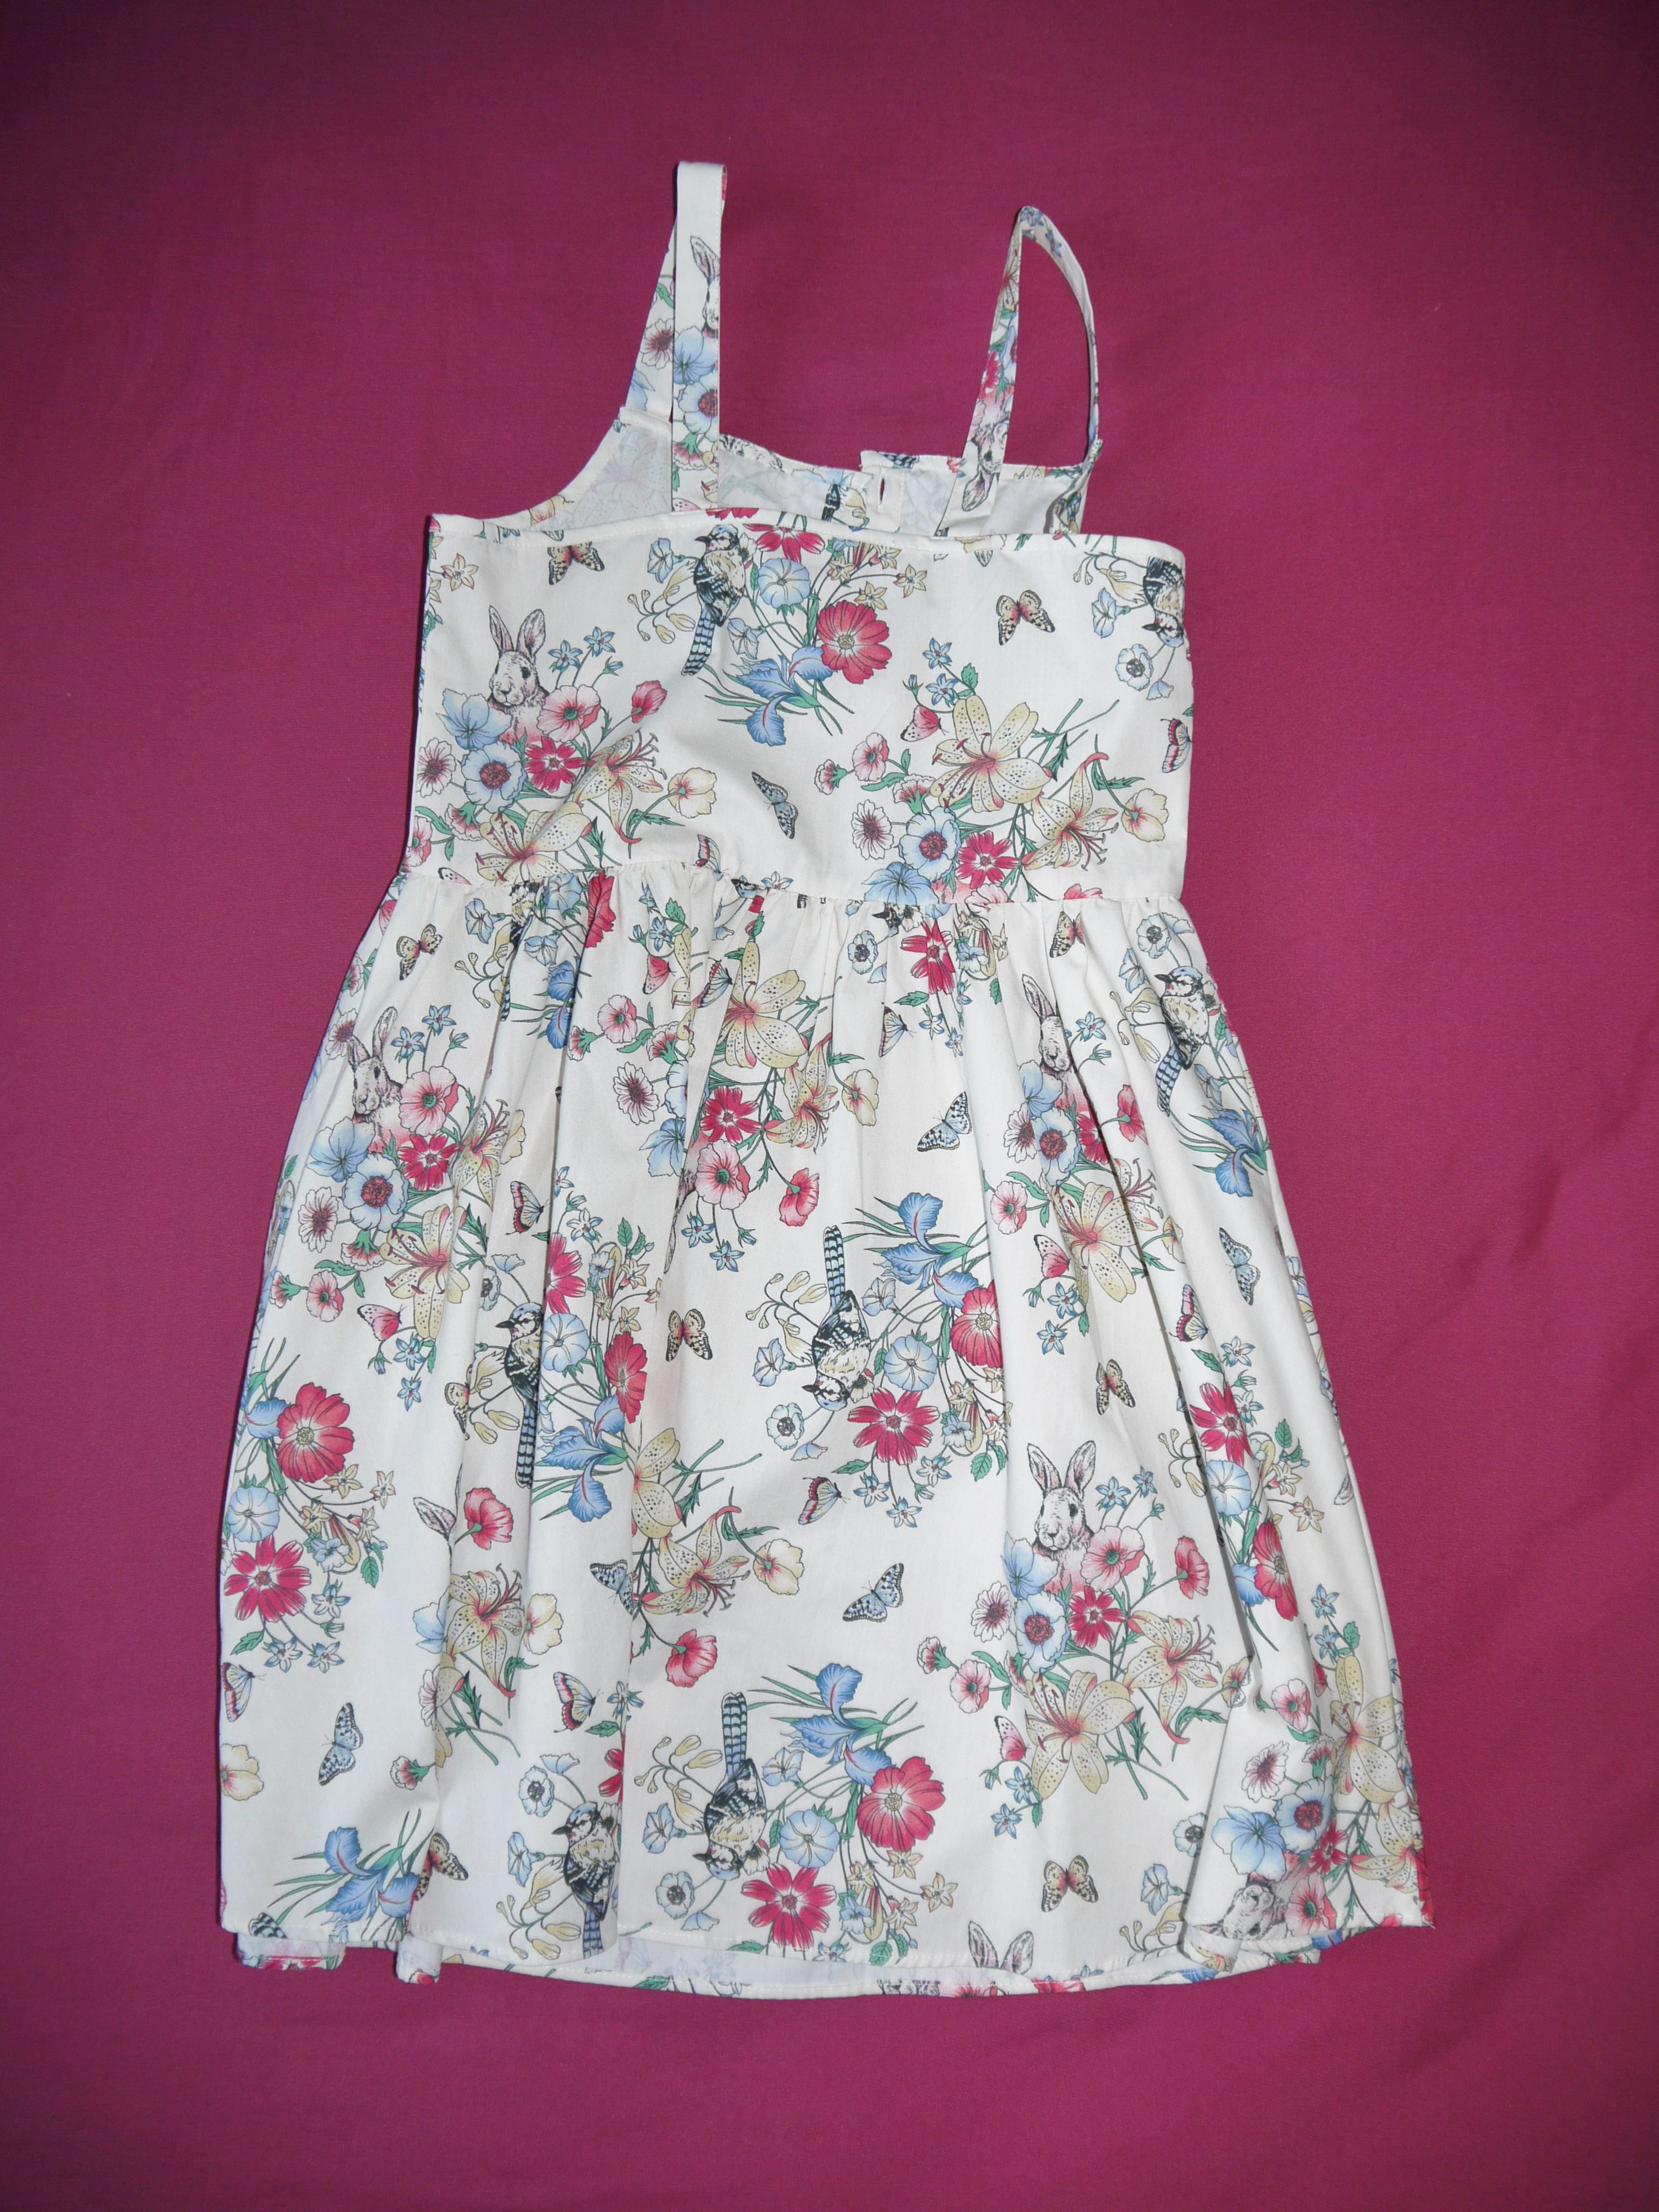clothes: (202, 141, 1436, 1979)
